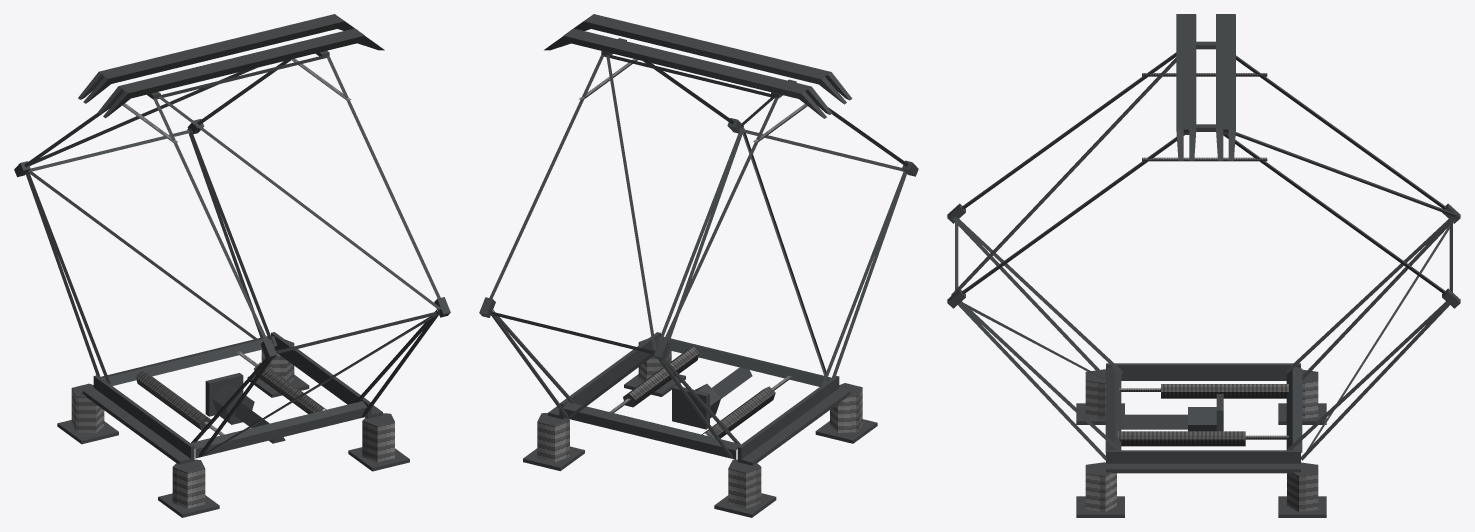
Rendered from K80_PANTA_B.glb.
3 views of the same model, side by side, from view 1: azimuth 30°, elevation 25°; view 2: azimuth 150°, elevation 25°; view 3: azimuth 270°, elevation 25° (orthographic).
Parts seen in each view (by area): view 1: panta; view 2: panta; view 3: panta.
Part boxes in pixels (box(x1,y1,x2,y2)): panta: box(14, 14, 450, 517); panta: box(479, 14, 918, 517); panta: box(947, 14, 1460, 517).
Bounding box in the file's own units: 3.73 × 4.97 × 5.92.
Materials: 2 (2 with a texture image).
